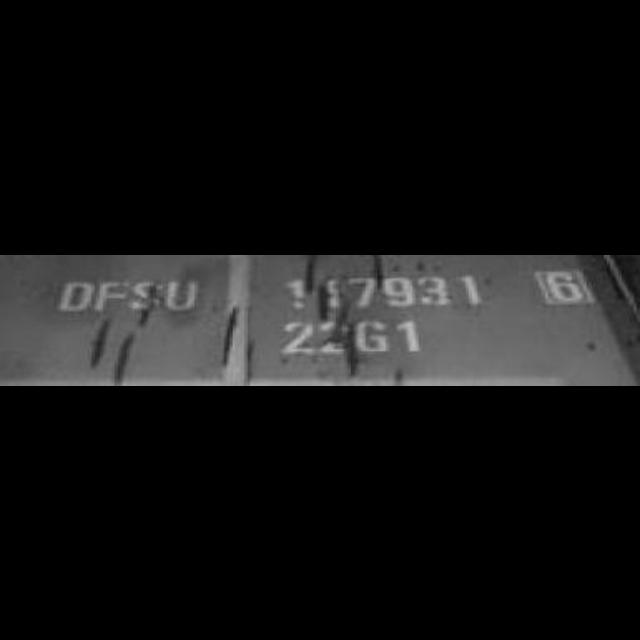1: (454, 270, 490, 312), (393, 314, 427, 358), (282, 272, 312, 314)
2: (280, 314, 314, 356), (319, 318, 353, 358)
3: (418, 269, 452, 313)
6: (543, 264, 589, 310)
7: (347, 272, 381, 312)
9: (380, 271, 418, 313)
d: (52, 274, 96, 316)
f: (96, 277, 130, 315)
g: (354, 315, 390, 357)
s: (132, 274, 164, 318)
u: (164, 270, 198, 316)
